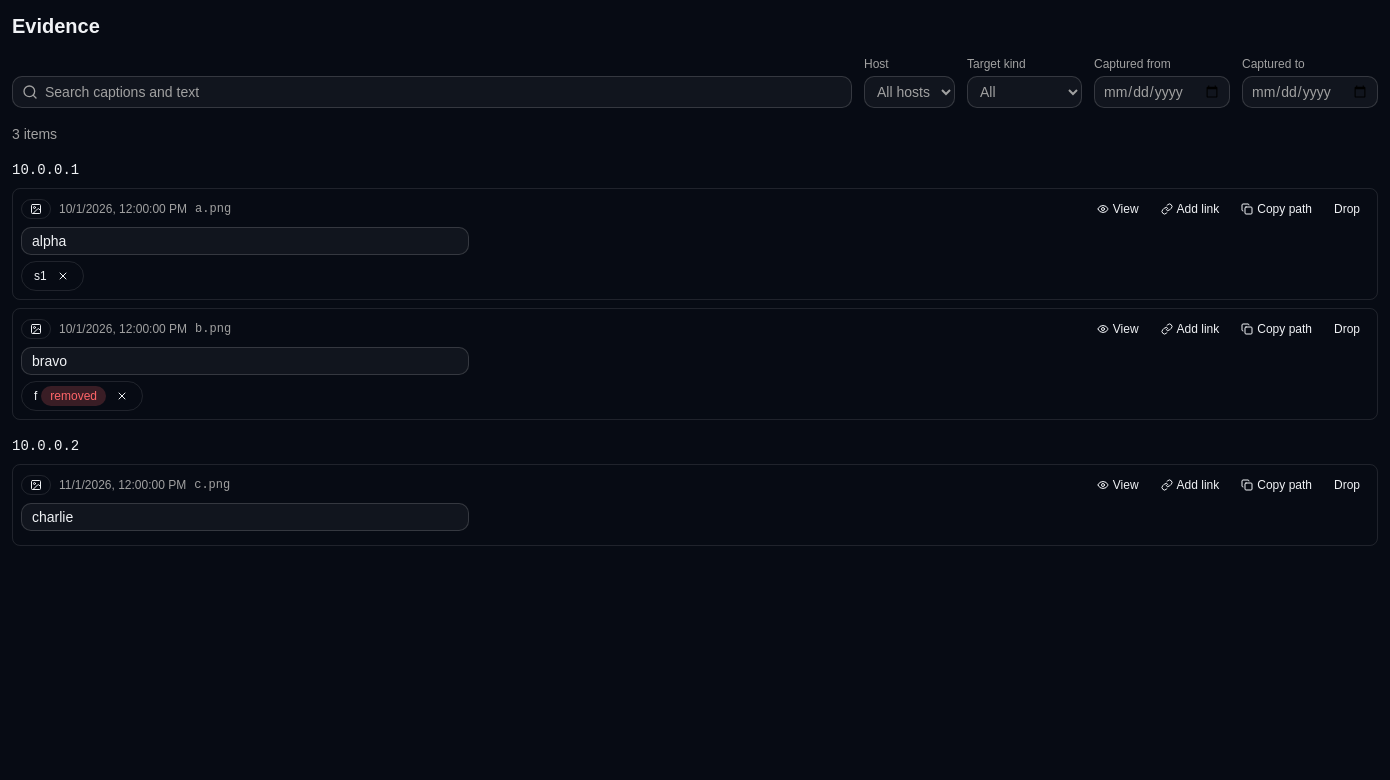
EvidencePage › keeps every item listed and shows an alert when the search fails
Expected: the list item with test id "evidence-a" is shown, [12,188,1378,300]
Type "needle" into the field named "Search evidence".
click(432, 92); type("needle")  # box [12,76,852,108]
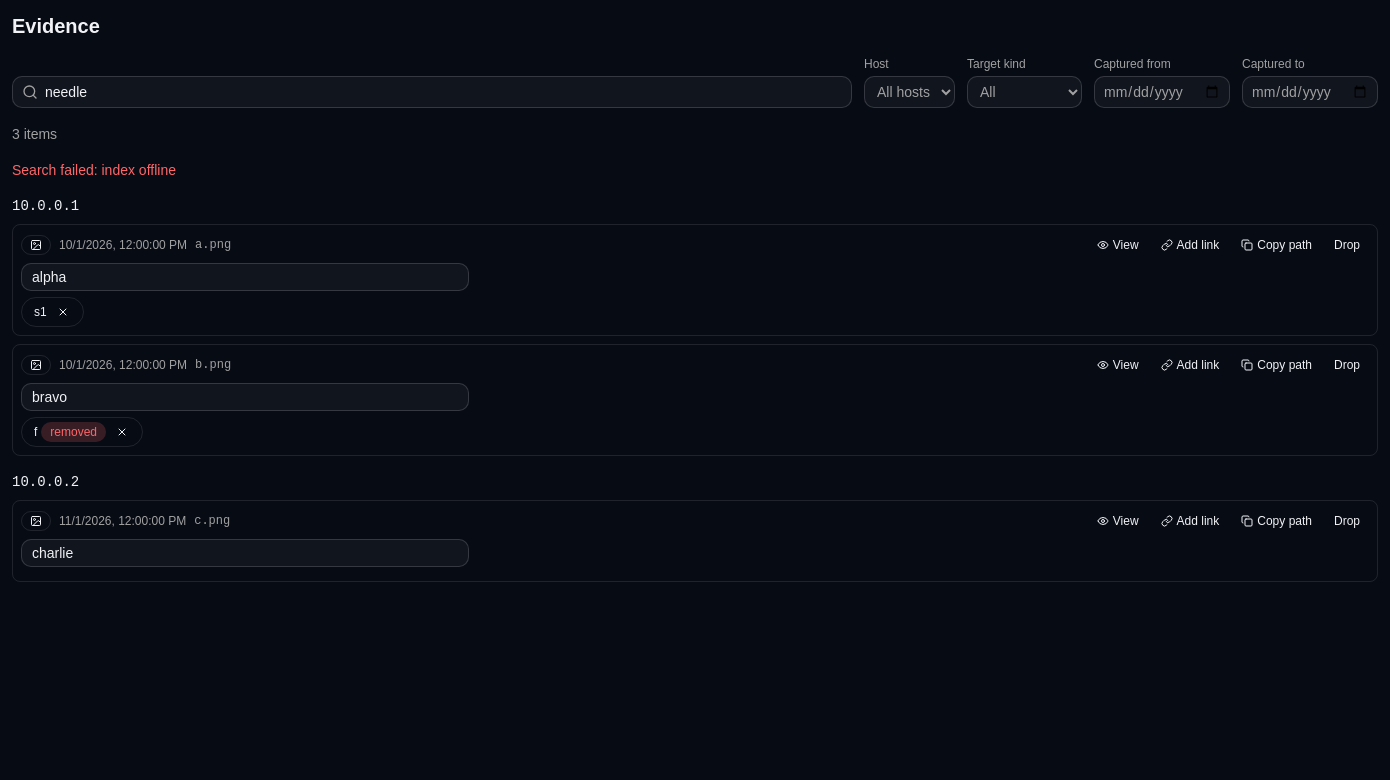
Now the message "Search failed: index offline" is shown, box [12,162,176,178]
